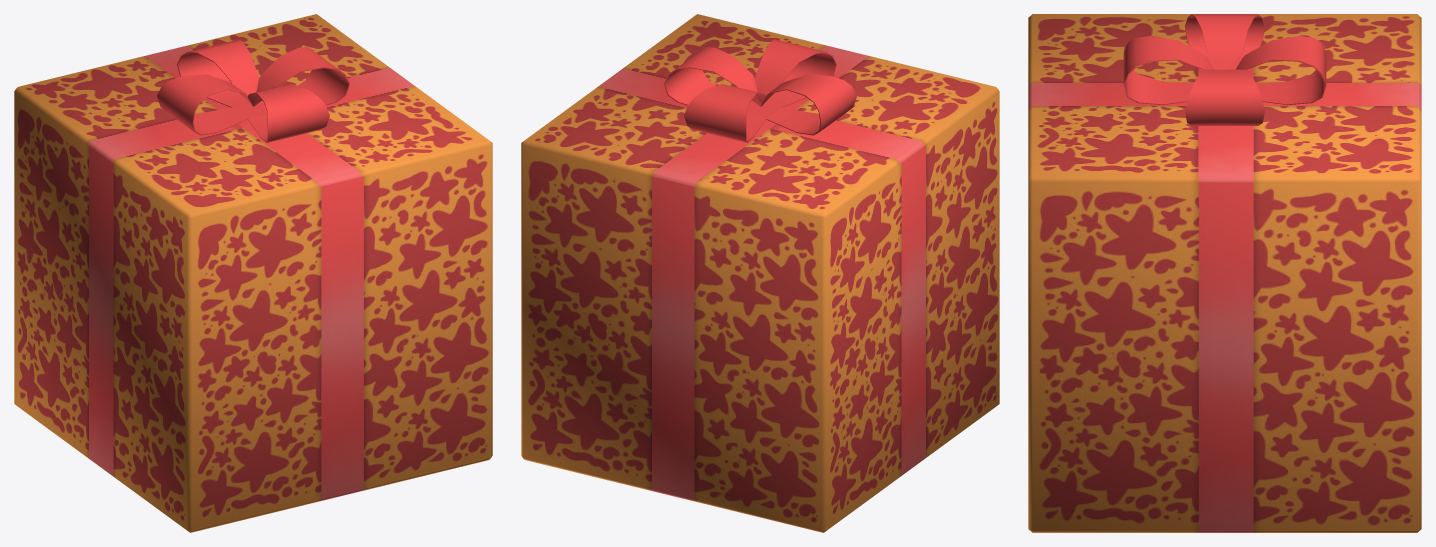
File: gift.dae
3 renders of one model, left to right at view 1: azimuth 30°, elevation 25°; view 2: azimuth 150°, elevation 25°; view 3: azimuth 270°, elevation 25°, orthographic. The views are drawn at different scales.
Visible parts, largest first — view 1: Box01, Box08_PIVOT; view 2: Box01, Box08_PIVOT; view 3: Box01, Box08_PIVOT.
Boxes of the visible parts, x1,y1,x2,y2 form: Box01: (14,14,492,532); Box08_PIVOT: (157,39,349,142); Box01: (521,14,999,532); Box08_PIVOT: (664,39,856,142); Box01: (1028,14,1421,532); Box08_PIVOT: (1123,14,1326,125).
Bounding box in the file's own units: 150 × 150 × 170.
2 materials, 1 textured.
